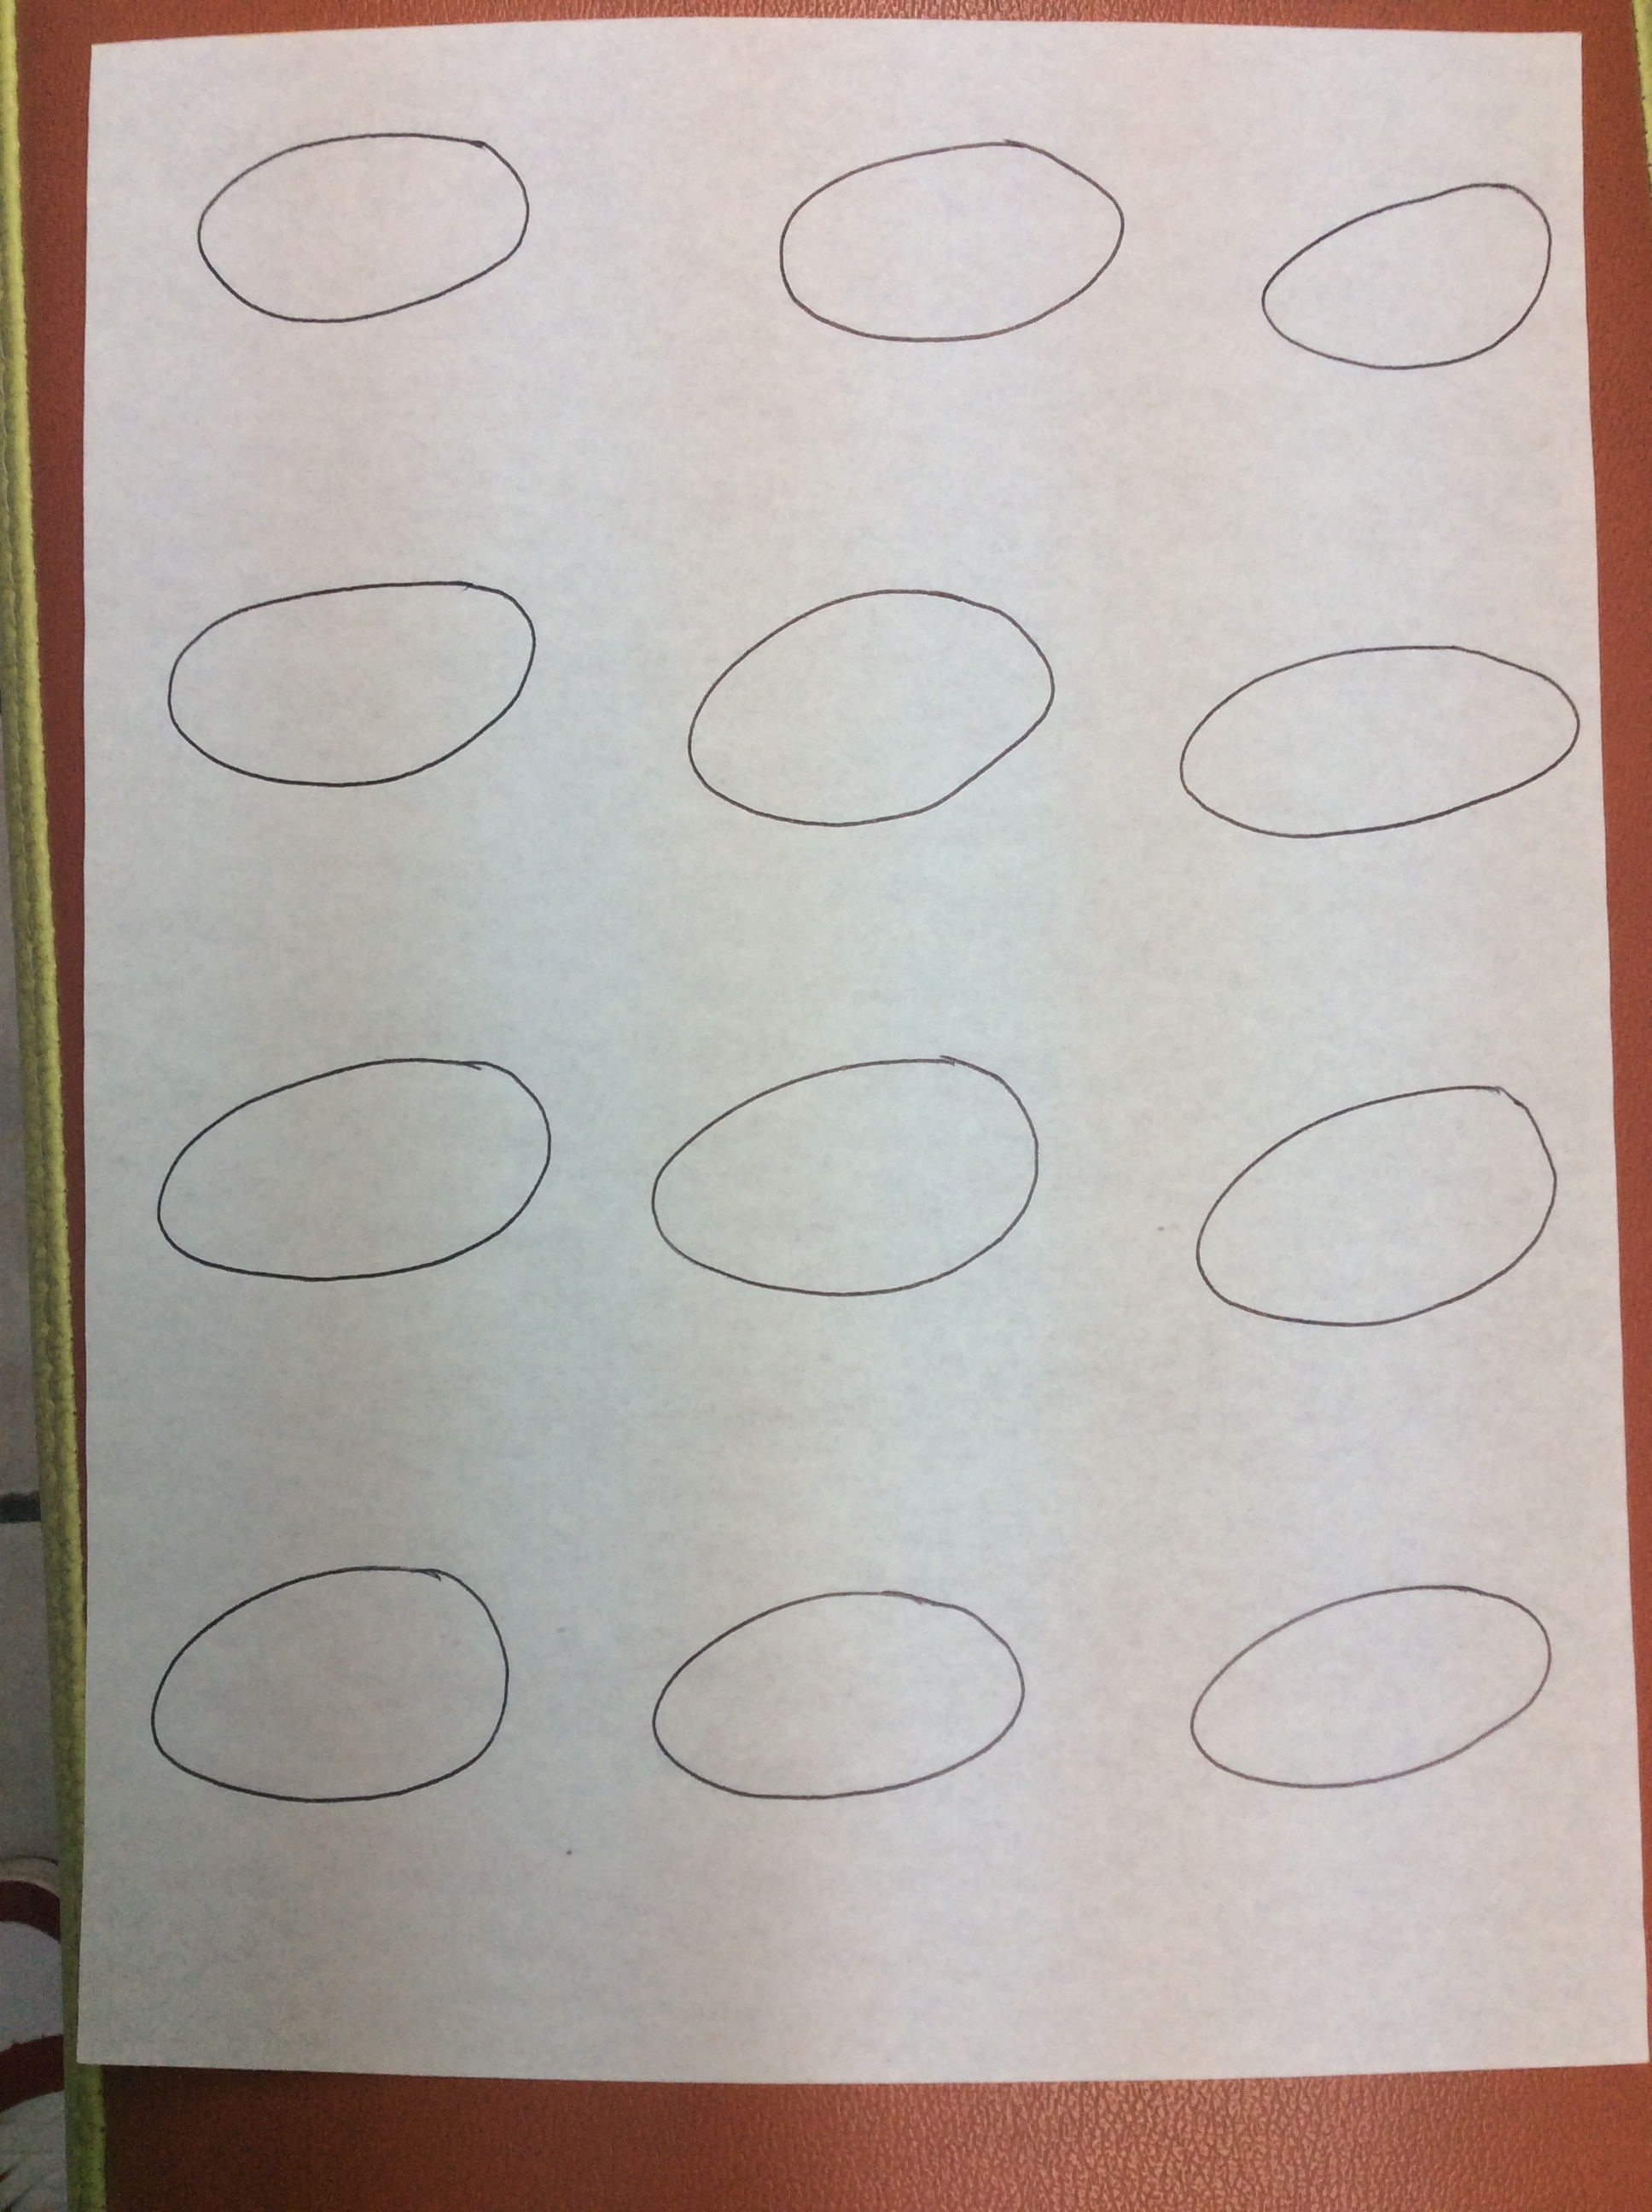start_end: (637, 540, 1071, 857), (118, 1037, 571, 1301), (619, 1037, 1039, 1315), (125, 1535, 524, 1823), (1145, 1556, 1576, 1820), (1173, 1069, 1572, 1348), (626, 1570, 1039, 1827), (1156, 625, 1593, 864), (142, 560, 555, 812), (736, 116, 1145, 363), (149, 109, 555, 342), (1227, 137, 1569, 392)
